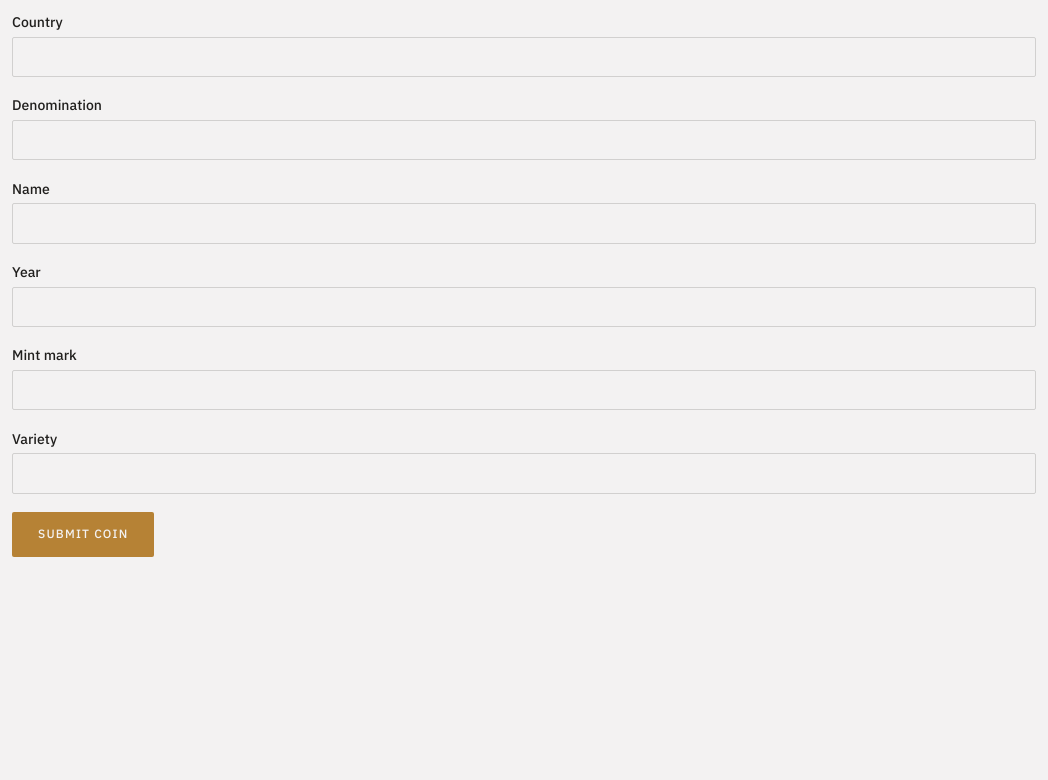
Scenario: SubmitCoinForm › criterion 4: dedup/validation errors surface without an unhandled exception › shows a page-level error (submit-coin-form-error) for a 409 conflict, not routed through field errors
Type "USA" into the field with id "submit-coin-country". click: (524,57)
box: [12,37,1036,77]
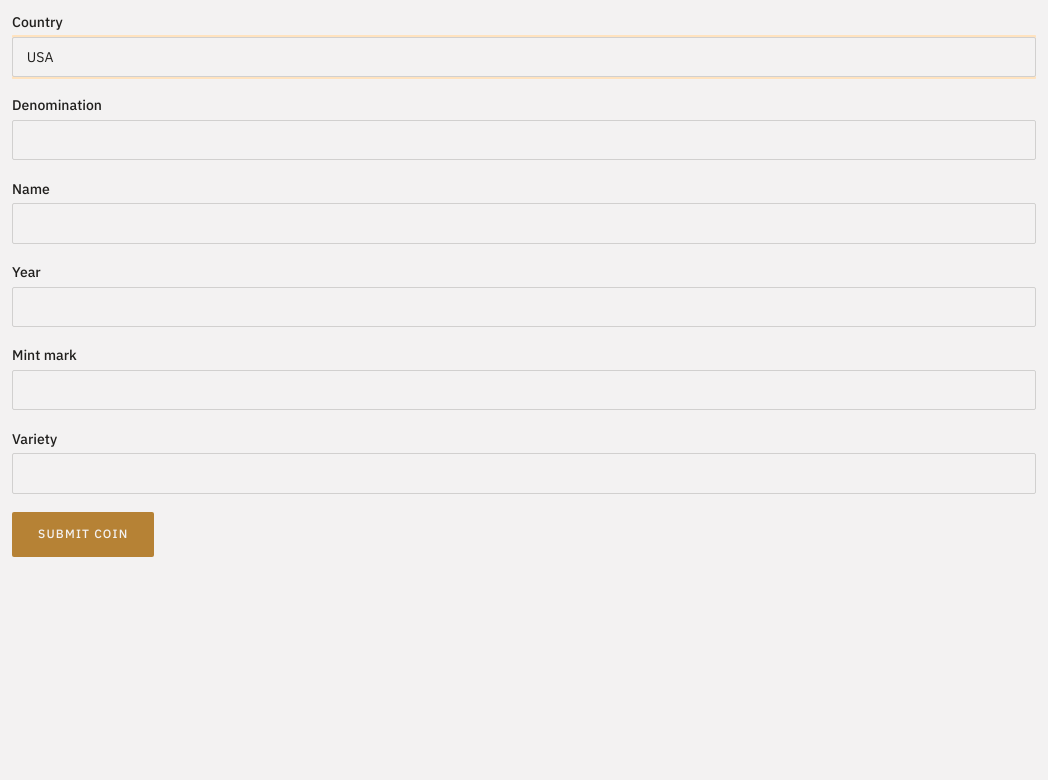
Type "1 Cent" into the field with id "submit-coin-denomination". click: (524,140)
box: [12,120,1036,160]
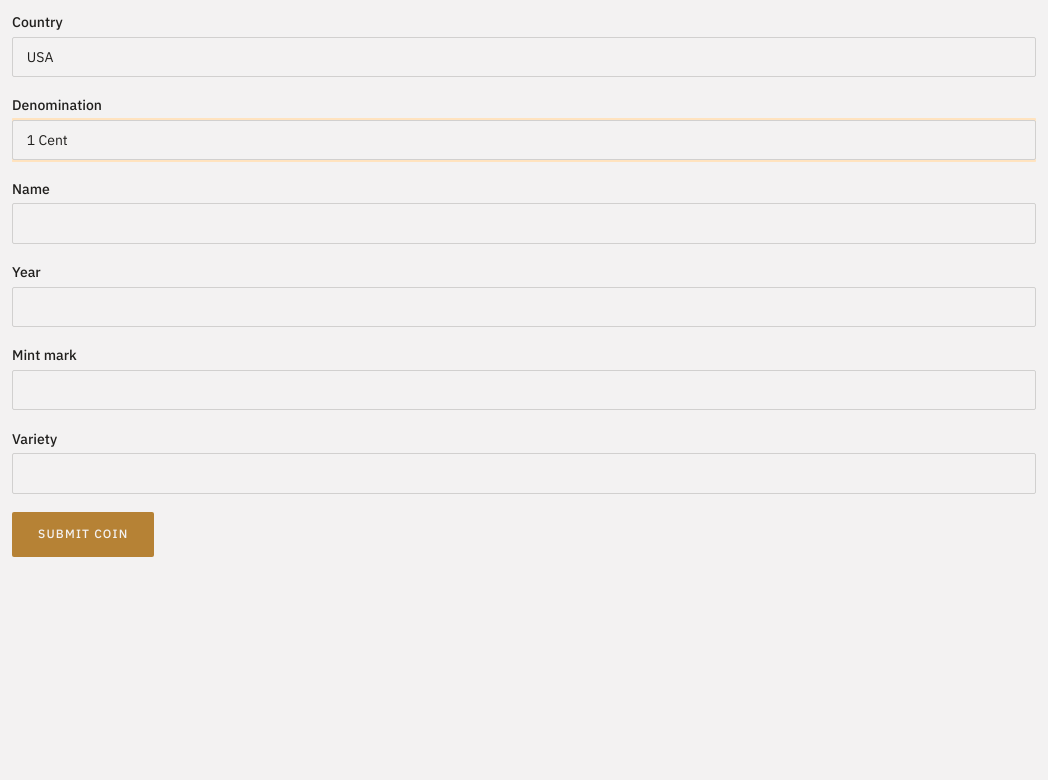
Type "Indian Head Cent" into the field with id "submit-coin-name". click: (524,224)
box: [12,203,1036,244]
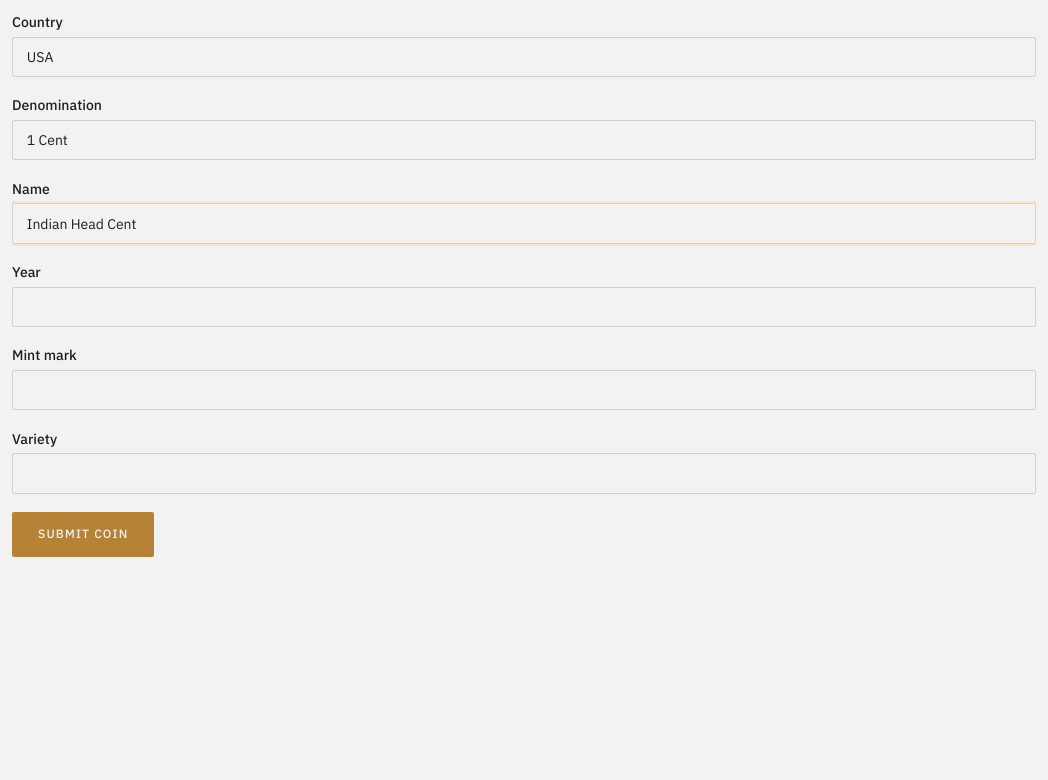
Type "1900" into the number field with id "submit-coin-year". click: (524,307)
box: [12,287,1036,327]
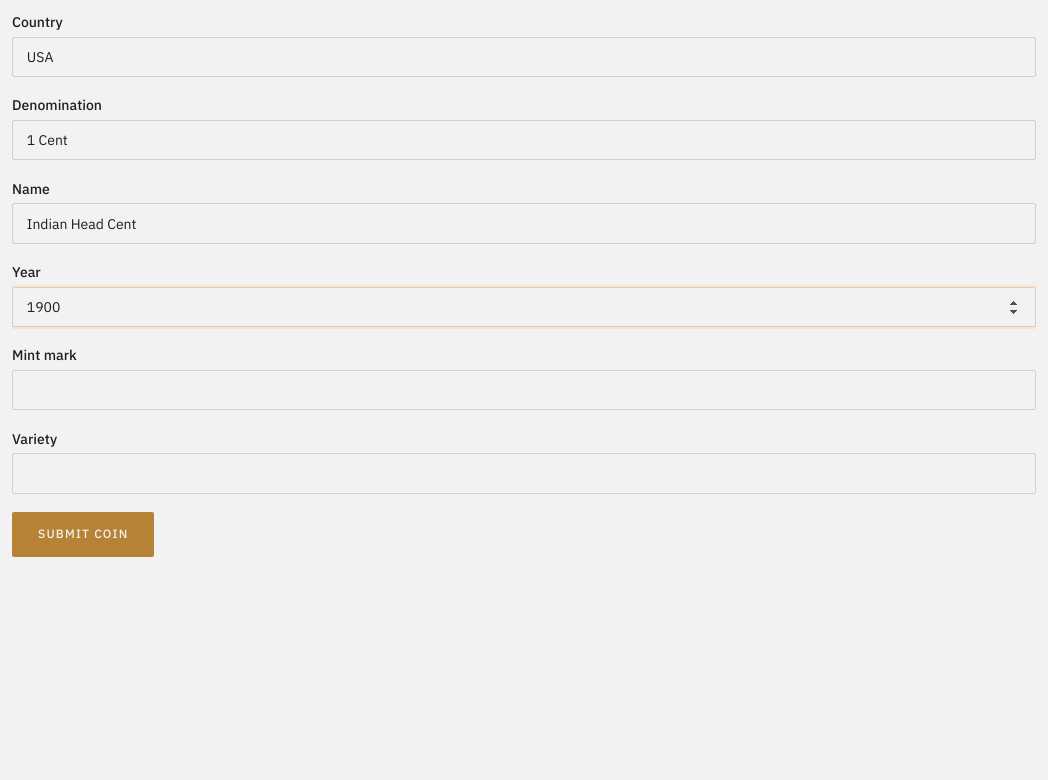
Click the button with test id "submit-coin-submit". click: (83,534)
box: [12,512,154,557]
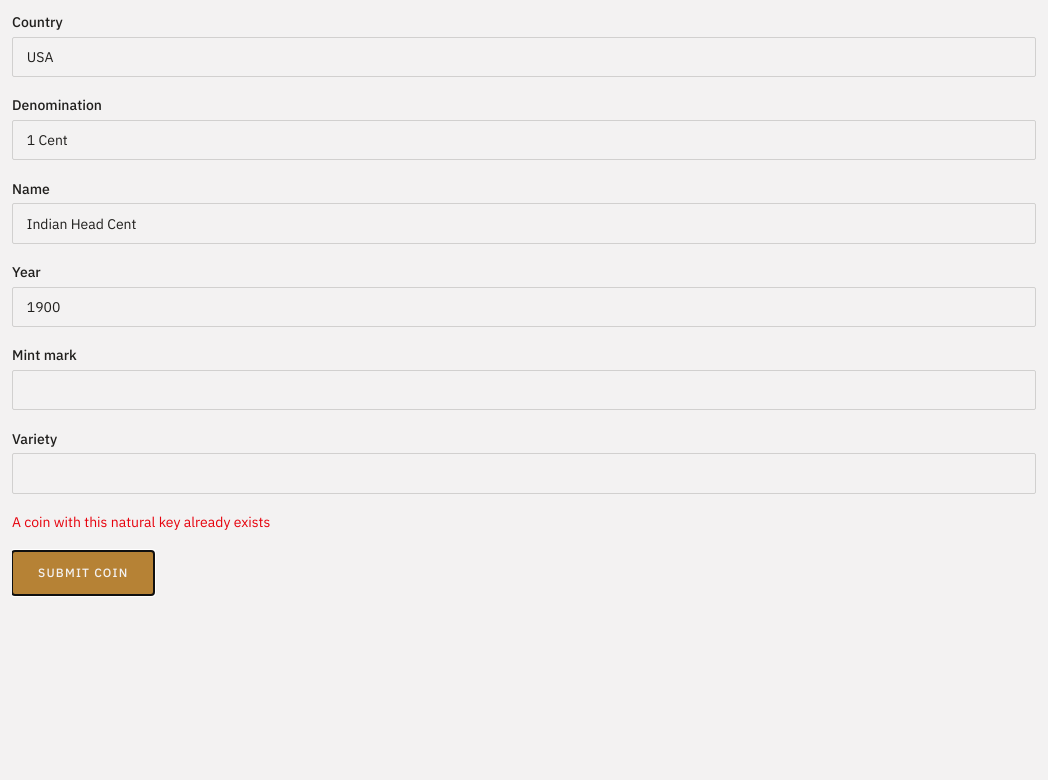
Expected: the text with test id "submit-coin-form-error" reads "A coin with this natural key already exists", [12,513,270,531]
